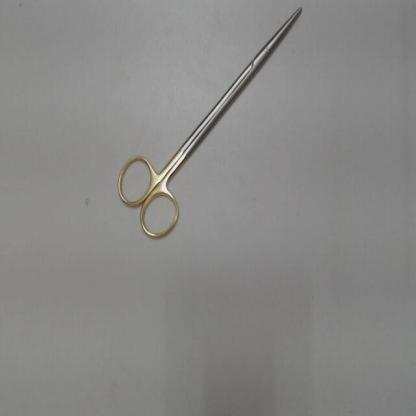7 Metzenbaum Scissors: (109, 3, 307, 246)
